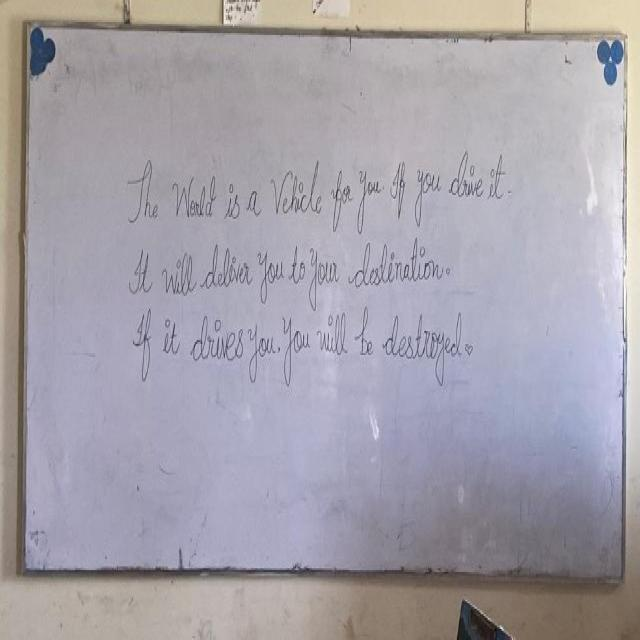White-board: (22, 23, 626, 578)
